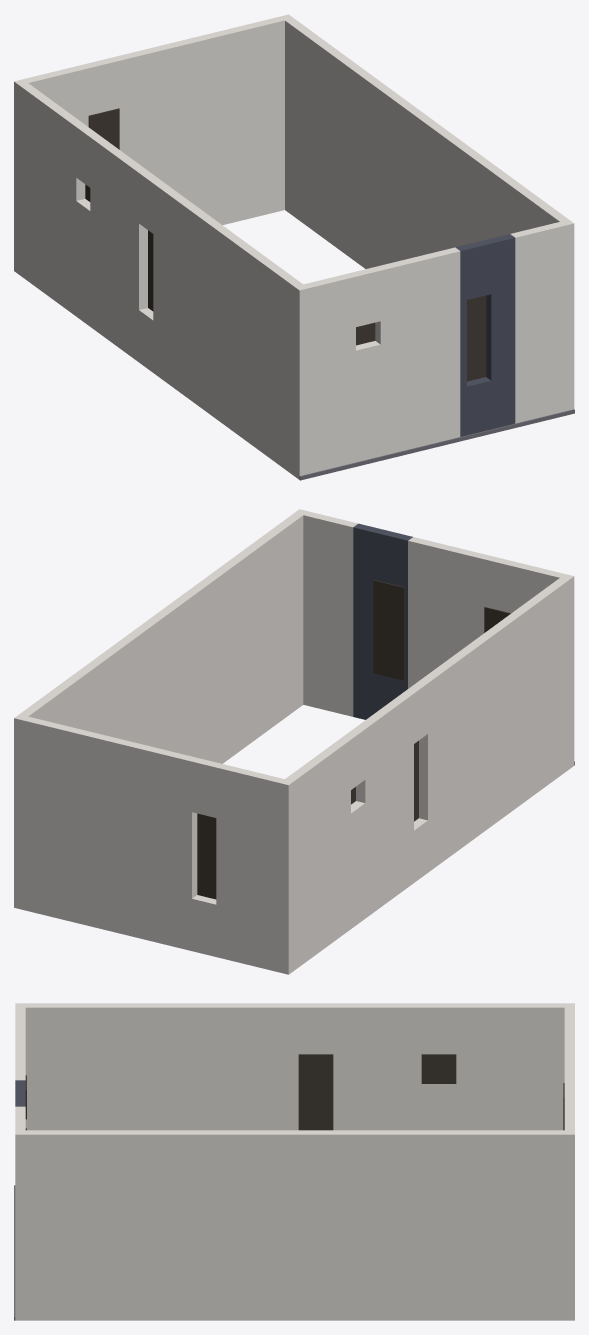
Rendered from SM_Floor_NarrowUpperScatterHighEndL_White_455_Back_01.gltf.
3 renders of one model, top to bottom at view 1: azimuth 30°, elevation 25°; view 2: azimuth 150°, elevation 25°; view 3: azimuth 270°, elevation 25°, orthographic. The views are drawn at different scales.
Visible parts, largest first — view 1: SM_Floor_NarrowUpperScatterHighEndL_White_455_Back_01; view 2: SM_Floor_NarrowUpperScatterHighEndL_White_455_Back_01; view 3: SM_Floor_NarrowUpperScatterHighEndL_White_455_Back_01.
Part boxes in pixels (bbox=[...]): SM_Floor_NarrowUpperScatterHighEndL_White_455_Back_01: bbox=[14, 14, 574, 480]; SM_Floor_NarrowUpperScatterHighEndL_White_455_Back_01: bbox=[14, 509, 574, 974]; SM_Floor_NarrowUpperScatterHighEndL_White_455_Back_01: bbox=[14, 1003, 574, 1320].
Size of the model in its own units: 4.55 by 3 by 8.21.
Materials: 1 (1 with a texture image).
